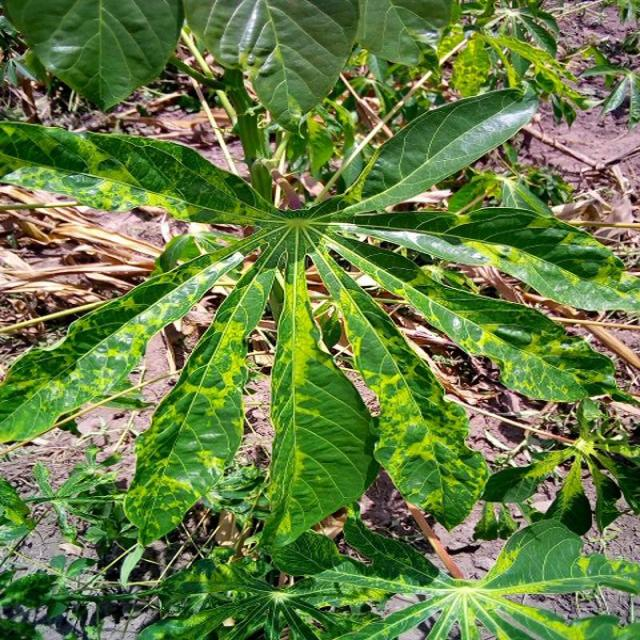Mosaico: (23, 109, 621, 492), (334, 530, 588, 640)
